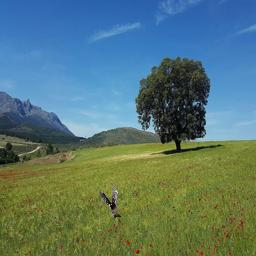Swallow: (99, 185, 122, 218)
